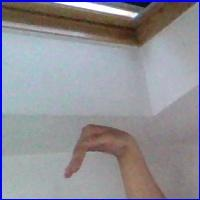del: (60, 122, 142, 185)
